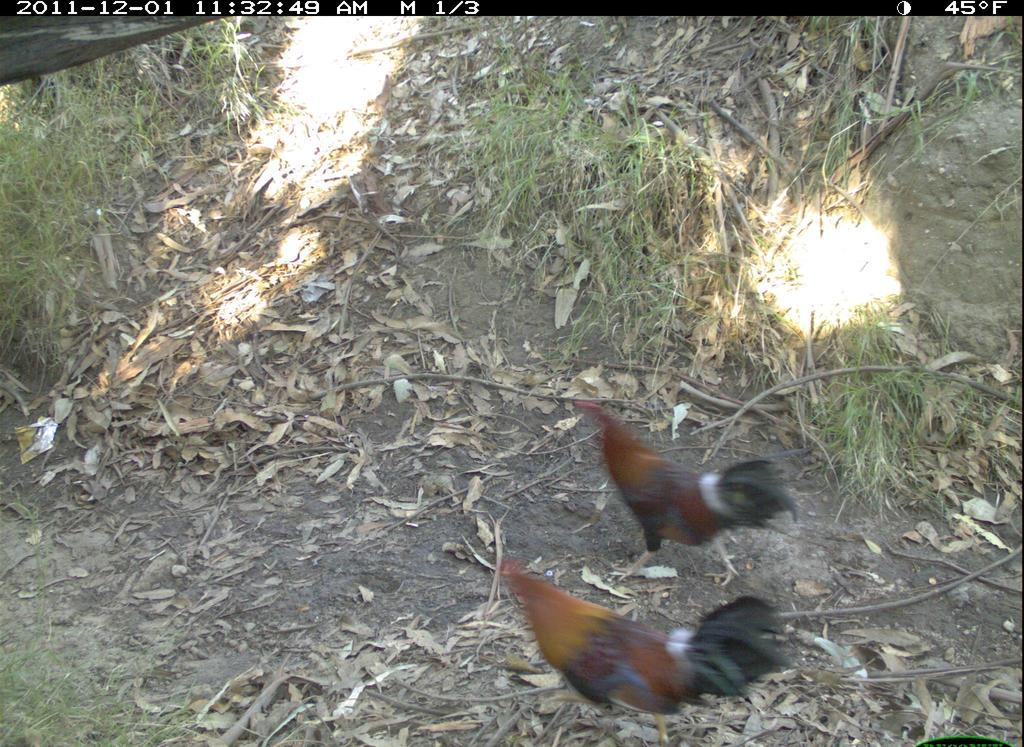bird: (496, 548, 789, 733), (574, 390, 812, 564)
